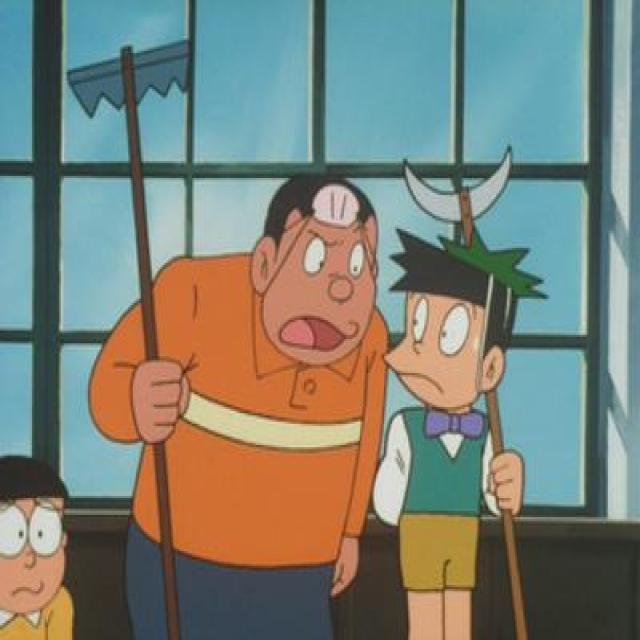jaian: (248, 168, 384, 380)
suneo: (376, 210, 518, 424)
